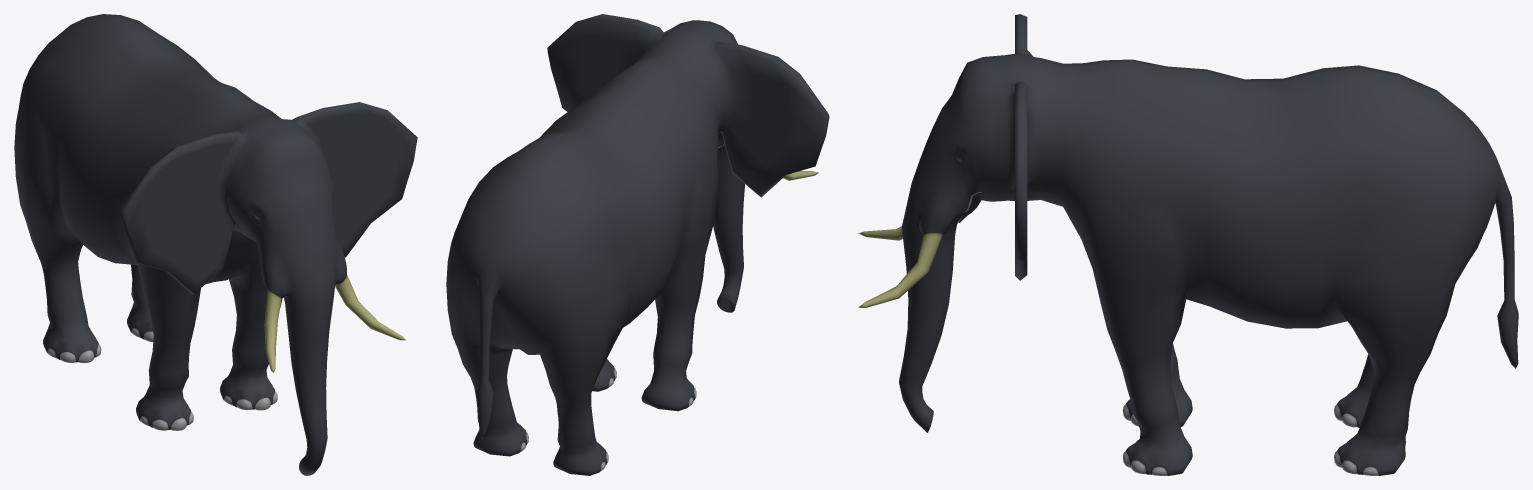
File: elephant_elephant.obj
The picture shows the model from 3 angles, left to right: view 1: azimuth 30°, elevation 25°; view 2: azimuth 150°, elevation 25°; view 3: azimuth 270°, elevation 25°; orthographic projection. The views are drawn at different scales.
Visible parts, largest first — view 1: elephant; view 2: elephant; view 3: elephant.
Part boxes in pixels (x1,y1,x2,y2): elephant: (14,14,417,475); elephant: (446,14,829,475); elephant: (858,14,1518,475).
Size of the model in its own units: 2.82 by 3.01 by 4.75.
